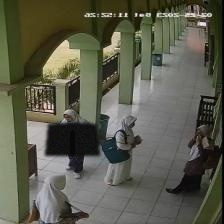Cadar_Niqab: (45, 106, 100, 155)
